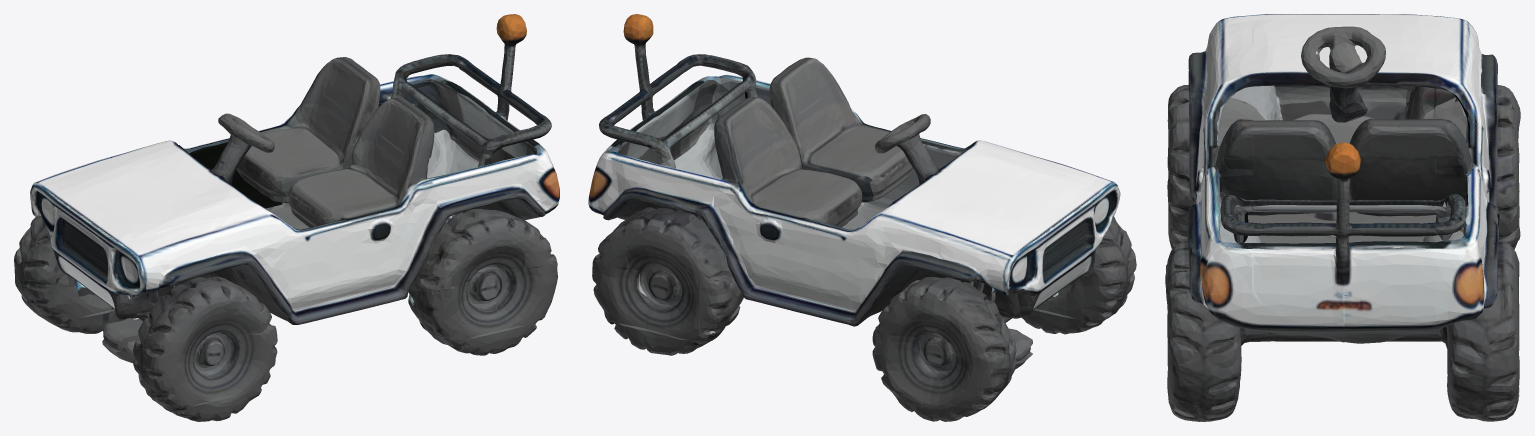
The model's file is hunyuan_moon_buggy_a_textured.glb.
The picture shows the model from 3 angles, left to right: view 1: azimuth 30°, elevation 25°; view 2: azimuth 150°, elevation 25°; view 3: azimuth 270°, elevation 25°; orthographic projection. The views are drawn at different scales.
Visible parts, largest first — view 1: tmpjqwdu8um.ply; view 2: tmpjqwdu8um.ply; view 3: tmpjqwdu8um.ply.
Boxes of the visible parts, x1,y1,x2,y2 form: tmpjqwdu8um.ply: (14,14,559,421); tmpjqwdu8um.ply: (588,14,1136,421); tmpjqwdu8um.ply: (1165,14,1520,421).
Bounding box in the file's own units: 2 × 1.16 × 1.18.
1 material, 1 textured.
